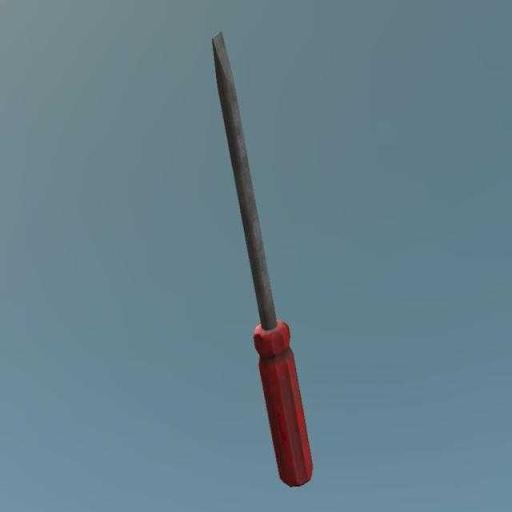screwdriver: (210, 30, 315, 488)
